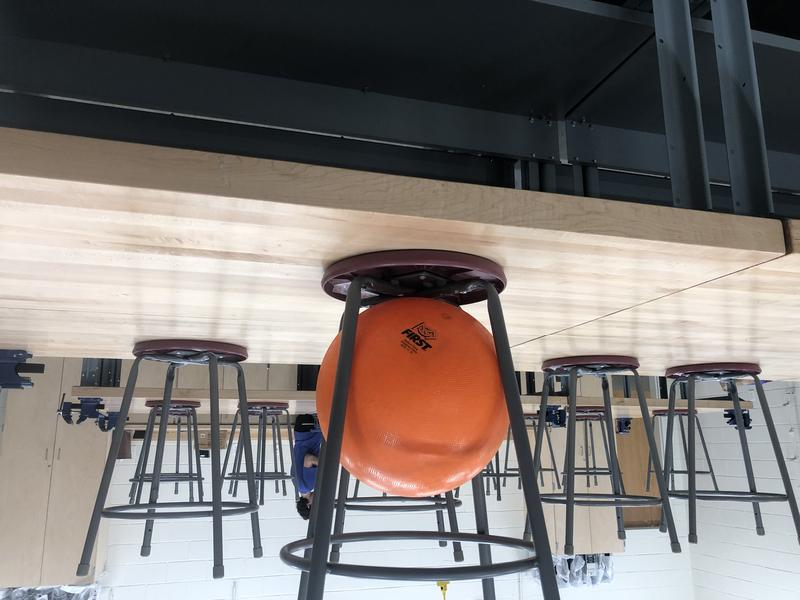ball: (317, 297, 514, 499)
